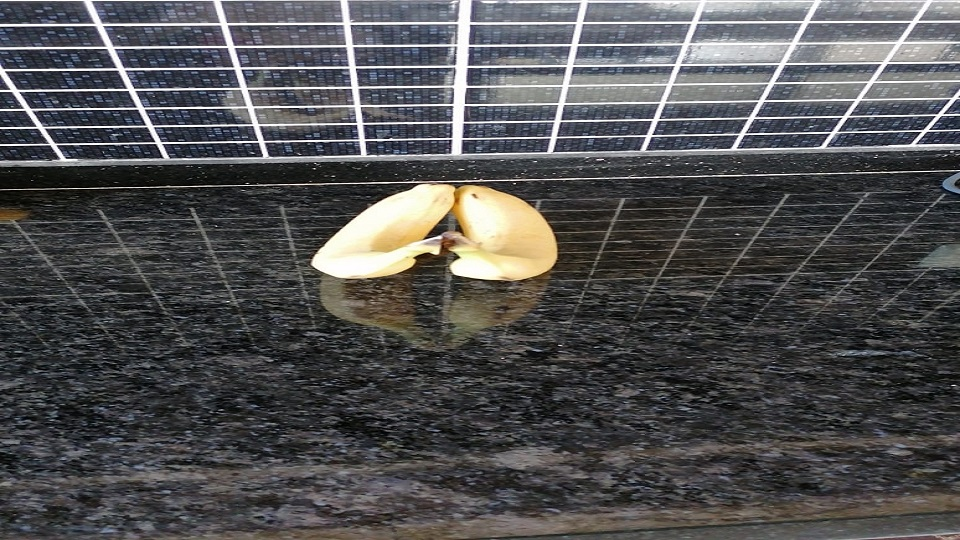muz: (309, 180, 449, 281), (452, 184, 558, 284)
